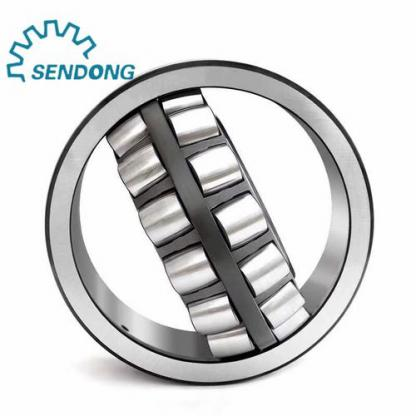FOD: (43, 53, 384, 386)
